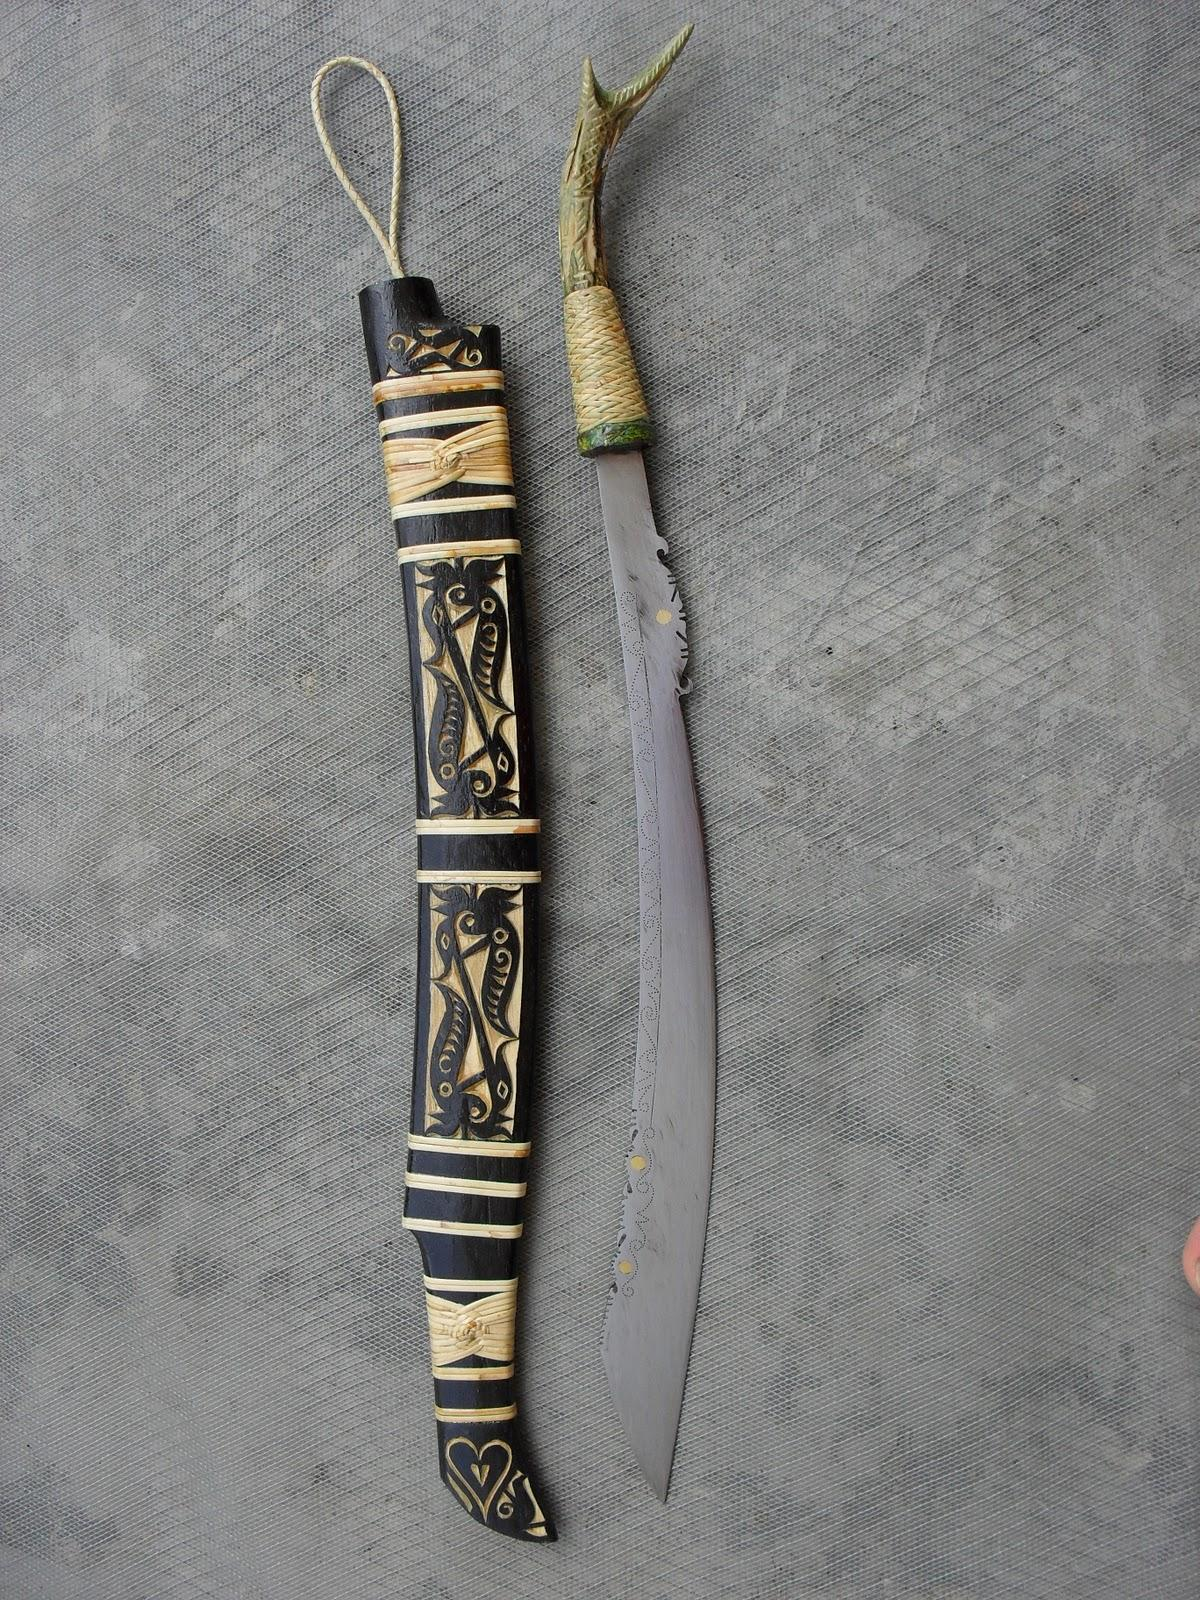espada: (534, 92, 725, 1503)
